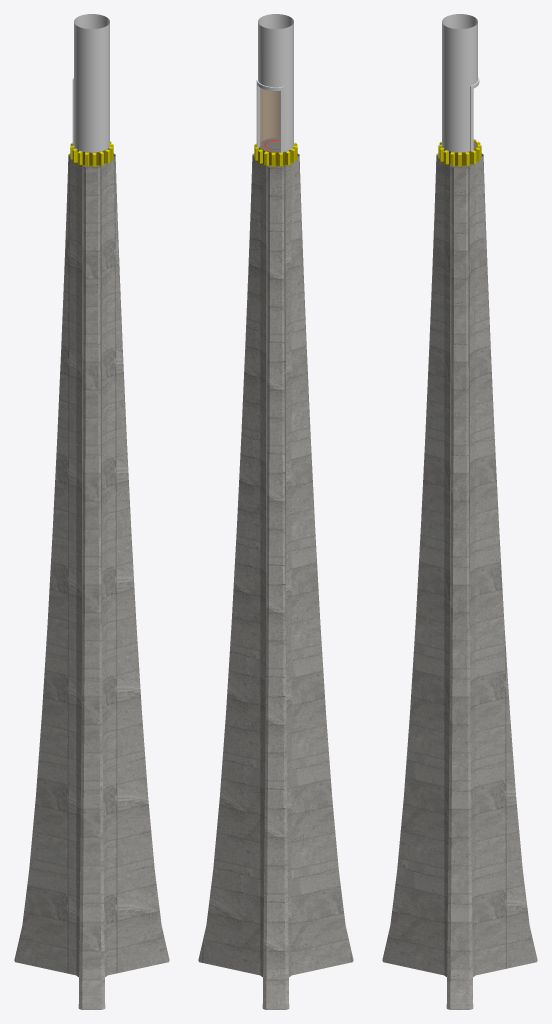
Rendered from mdl_zesty_room_pillar.gltf.
3 views of the same model, side by side, from view 1: azimuth 30°, elevation 25°; view 2: azimuth 150°, elevation 25°; view 3: azimuth 270°, elevation 25° (orthographic).
Visible parts, largest first — view 1: mdl_zesty_room_pillar; view 2: mdl_zesty_room_pillar; view 3: mdl_zesty_room_pillar.
Boxes of the visible parts, <box> form: mdl_zesty_room_pillar: <box>14,14,169,1009</box>; mdl_zesty_room_pillar: <box>198,14,353,1009</box>; mdl_zesty_room_pillar: <box>382,14,537,1009</box>.
Bounding box in the file's own units: 4.77 × 36.88 × 5.45.
8 materials, 1 textured.
